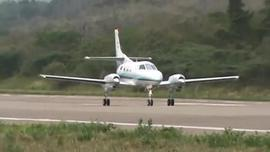aircraft: (40, 27, 240, 106)
